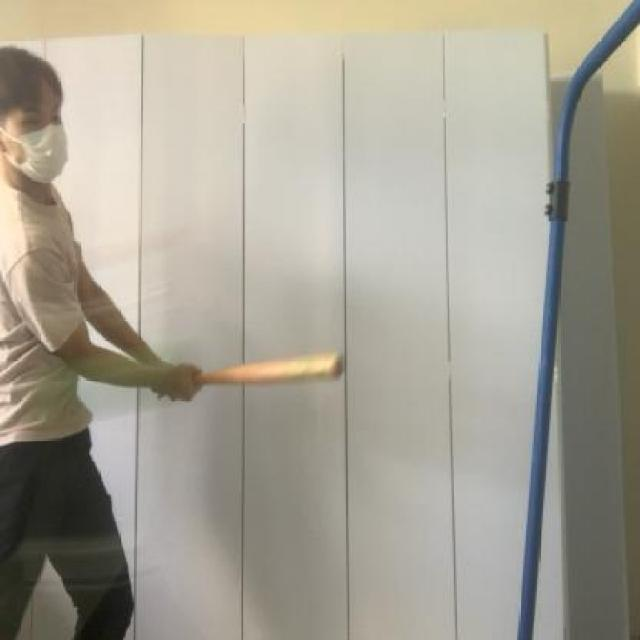baseball: (32, 324, 212, 410)
